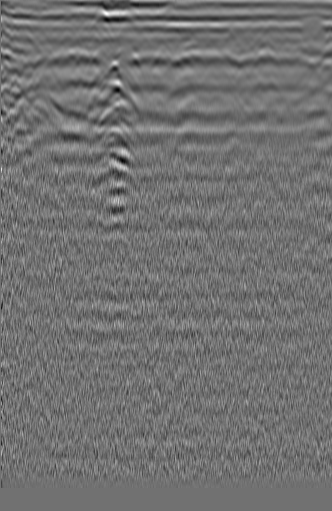가스: (89, 158, 140, 193)
상수: (13, 29, 44, 64)
오수: (283, 39, 314, 66)
우수: (145, 40, 174, 72)
